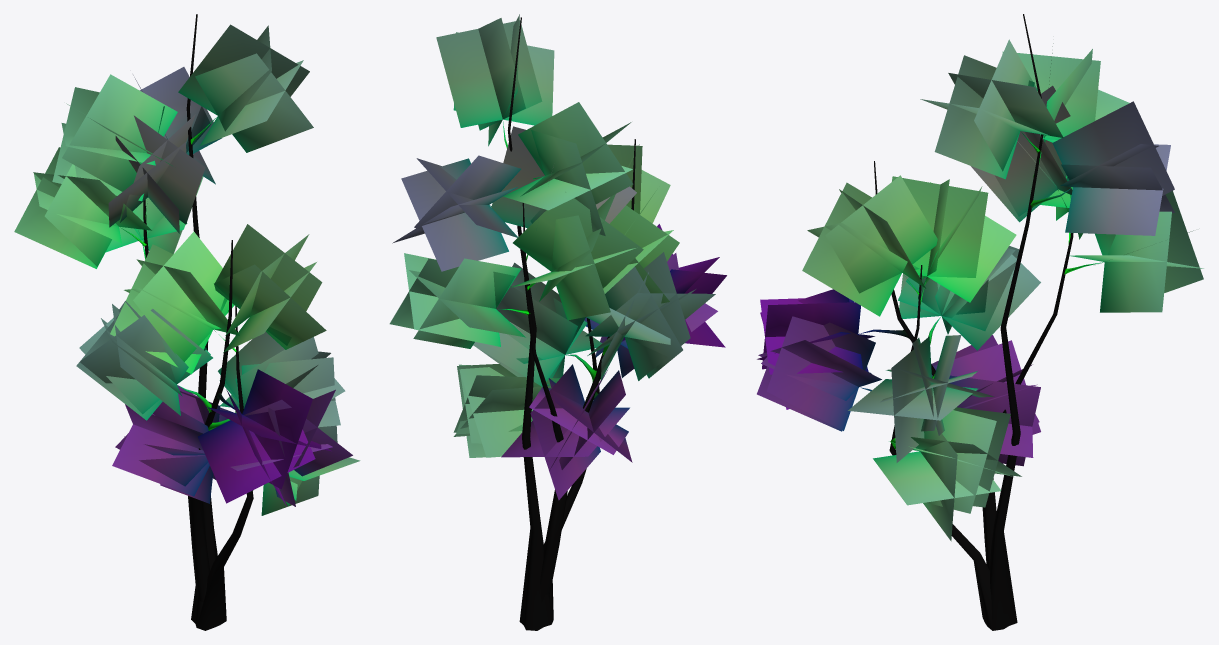
Rendered from URP_P6_Tree_9_LOD_2.fbx.
The picture shows the model from 3 angles, left to right: view 1: azimuth 30°, elevation 25°; view 2: azimuth 150°, elevation 25°; view 3: azimuth 270°, elevation 25°; orthographic projection. The views are drawn at different scales.
Visible parts, largest first — view 1: Tree_9_LOD_2; view 2: Tree_9_LOD_2; view 3: Tree_9_LOD_2.
Part boxes in pixels (x1,y1,x2,y2): Tree_9_LOD_2: (14,14,360,630); Tree_9_LOD_2: (389,14,726,630); Tree_9_LOD_2: (757,14,1203,630).
Size of the model in its own units: 465 by 1075 by 717.
